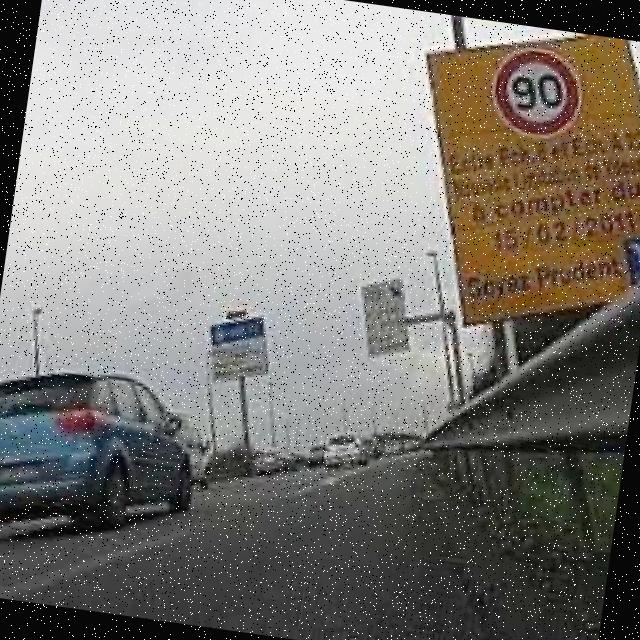Ograniczenie predkosci do 90: (488, 50, 584, 136)
